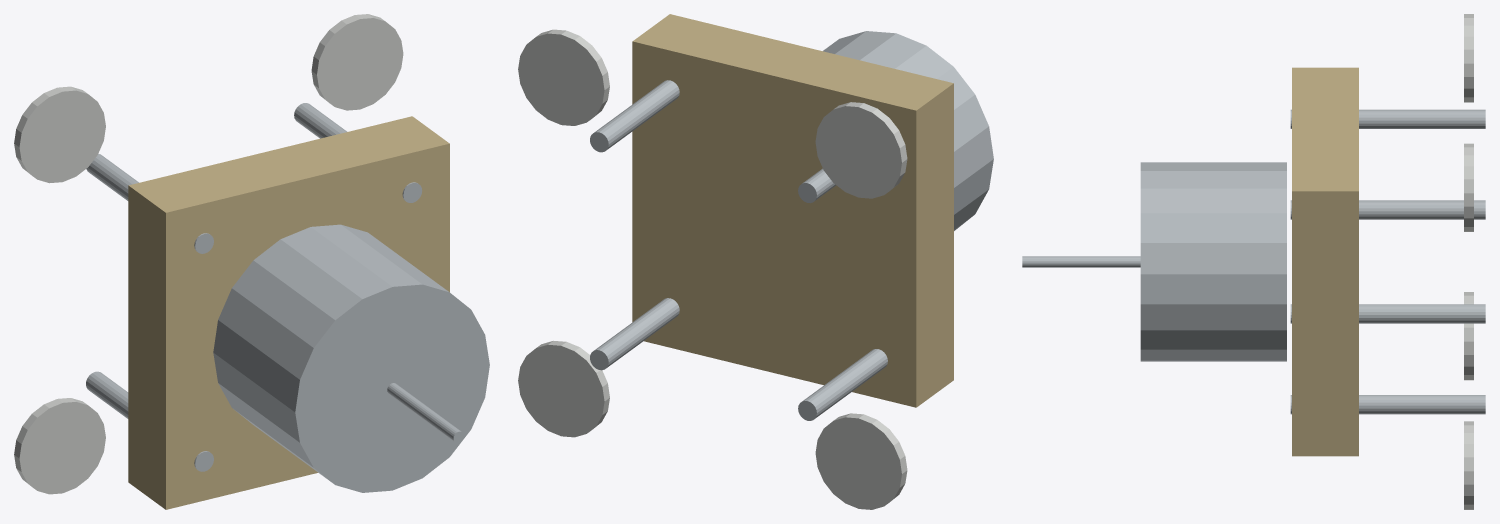
Rendered from apollo12_intrepid.glb.
3 views of the same model, side by side, from view 1: azimuth 30°, elevation 25°; view 2: azimuth 150°, elevation 25°; view 3: azimuth 270°, elevation 25° (orthographic). The views are drawn at different scales.
Visible parts, largest first — view 1: descent_platform, upper_housing, footpad_1, footpad_3, footpad_0, landing_leg_0, landing_leg_1, landing_leg_3, antenna; view 2: descent_platform, upper_housing, footpad_0, footpad_3, footpad_1, footpad_2, landing_leg_3, landing_leg_2, landing_leg_0, landing_leg_1; view 3: upper_housing, descent_platform, landing_leg_0, landing_leg_1, landing_leg_2, landing_leg_3, antenna, footpad_1, footpad_2, footpad_3, footpad_0.
Boxes of the visible parts, bbox=[...] form: descent_platform: bbox=[128, 116, 449, 509]; upper_housing: bbox=[213, 224, 489, 492]; footpad_1: bbox=[14, 86, 105, 183]; footpad_3: bbox=[311, 14, 403, 110]; footpad_0: bbox=[14, 398, 105, 494]; landing_leg_0: bbox=[86, 371, 213, 471]; landing_leg_1: bbox=[86, 154, 213, 253]; landing_leg_3: bbox=[294, 103, 422, 202]; antenna: bbox=[387, 383, 464, 442]; descent_platform: bbox=[632, 14, 953, 407]; upper_housing: bbox=[823, 31, 993, 230]; footpad_0: bbox=[815, 413, 907, 509]; footpad_3: bbox=[518, 29, 609, 125]; footpad_1: bbox=[815, 102, 907, 198]; footpad_2: bbox=[518, 340, 609, 437]; landing_leg_3: bbox=[590, 80, 679, 152]; landing_leg_2: bbox=[590, 298, 679, 370]; landing_leg_0: bbox=[798, 349, 887, 420]; landing_leg_1: bbox=[798, 168, 836, 203]; upper_housing: bbox=[1140, 162, 1286, 361]; descent_platform: bbox=[1292, 67, 1358, 456]; landing_leg_0: bbox=[1290, 304, 1485, 323]; landing_leg_1: bbox=[1290, 109, 1485, 128]; landing_leg_2: bbox=[1290, 395, 1485, 414]; landing_leg_3: bbox=[1290, 200, 1485, 219]; antenna: bbox=[1022, 256, 1140, 267]; footpad_1: bbox=[1464, 14, 1473, 102]; footpad_2: bbox=[1464, 421, 1473, 509]; footpad_3: bbox=[1464, 143, 1473, 231]; footpad_0: bbox=[1464, 292, 1473, 380].
Size of the model in its own units: 2.84 by 2.84 by 3.33.
